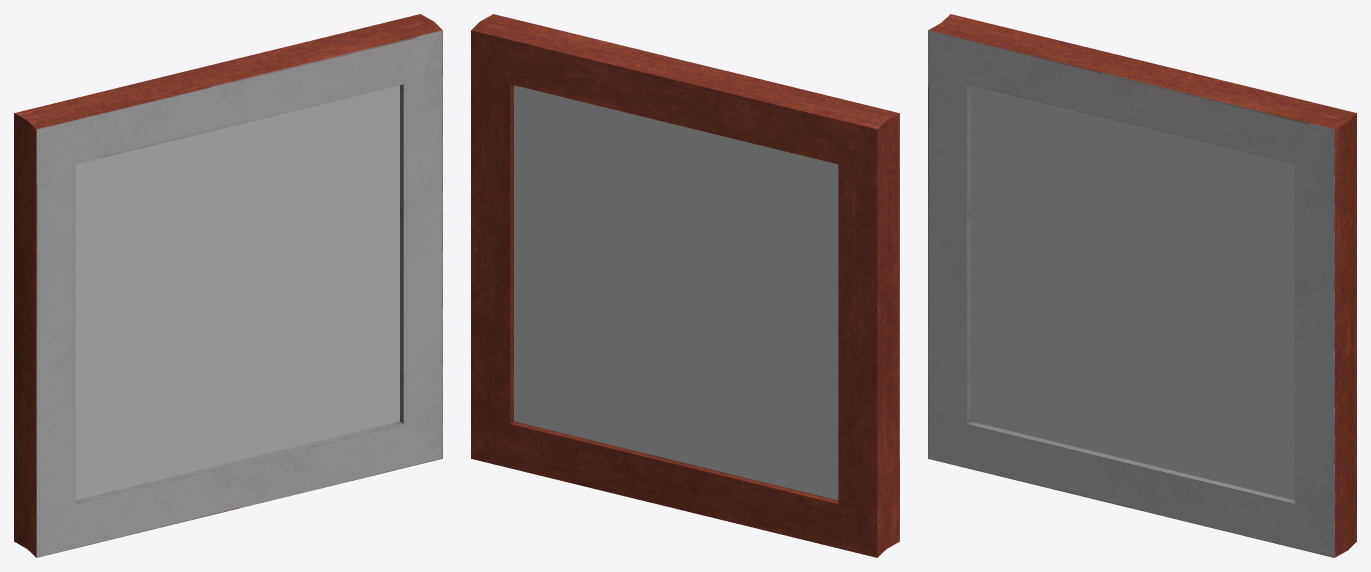
The model's file is SM_Mini_Window.fbx.
The picture shows the model from 3 angles, left to right: view 1: azimuth 30°, elevation 25°; view 2: azimuth 150°, elevation 25°; view 3: azimuth 330°, elevation 25°; orthographic projection.
Visible parts, largest first — view 1: SM_Mini_Window; view 2: SM_Mini_Window; view 3: SM_Mini_Window.
Part boxes in pixels (<box>): SM_Mini_Window: <box>14,14,442,557</box>; SM_Mini_Window: <box>471,14,899,557</box>; SM_Mini_Window: <box>928,14,1356,557</box>.
Size of the model in its own units: 80.09 by 7.59 by 80.26.
Materials: 2 (1 with a texture image).
